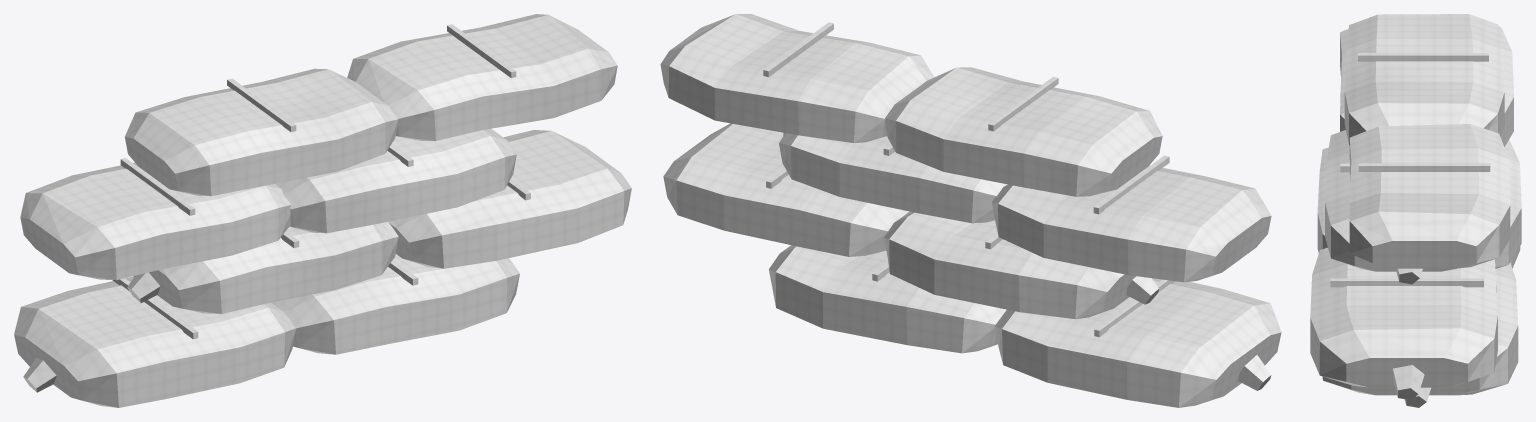
The model's file is sandbags_3.obj.
3 renders of one model, left to right at view 1: azimuth 30°, elevation 25°; view 2: azimuth 150°, elevation 25°; view 3: azimuth 270°, elevation 25°, orthographic. The views are drawn at different scales.
Visible parts, largest first — view 1: sandbags_3; view 2: sandbags_3; view 3: sandbags_3.
Part boxes in pixels (x1,y1,x2,y2): sandbags_3: (14, 14, 631, 407); sandbags_3: (660, 14, 1281, 407); sandbags_3: (1310, 14, 1521, 407).
Bounding box in the file's own units: 1.36 × 0.5216 × 0.409.
